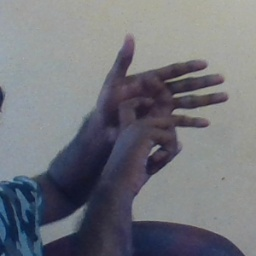R: (81, 29, 232, 182)
